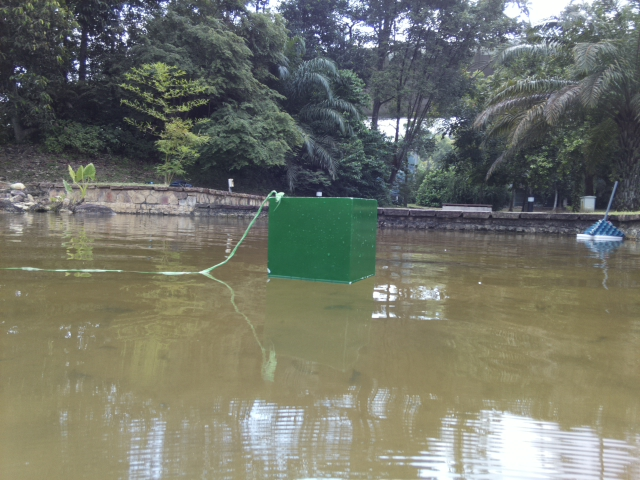obstacle: (266, 196, 378, 286)
